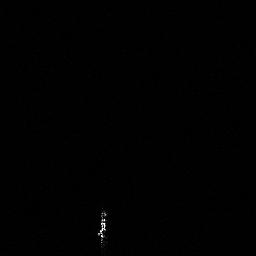ship: (95, 206, 113, 253)
